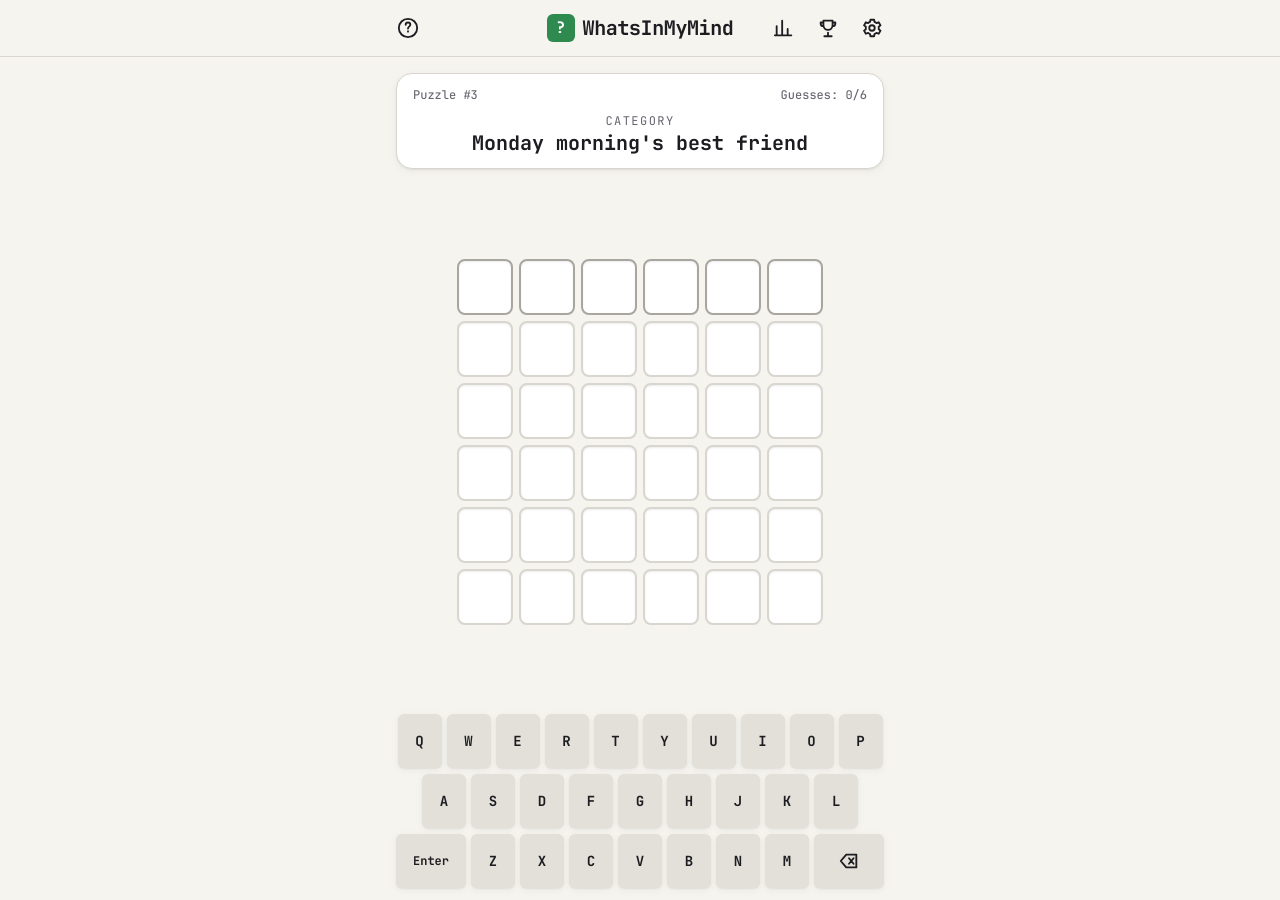
App › switches to the retro theme and unlocks Retro Soul
Click the button named "Settings".
click(872, 28)  # box [852,8,892,48]
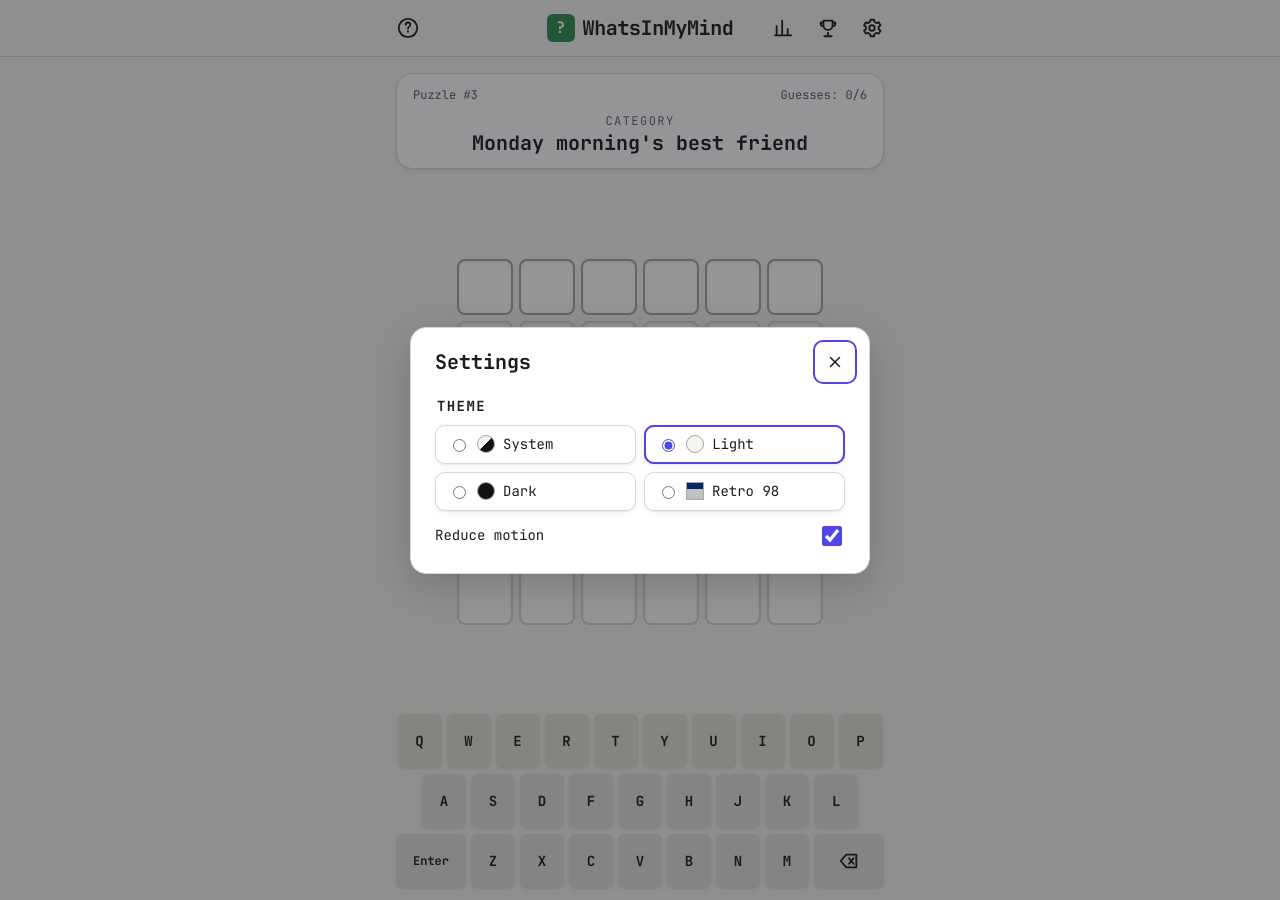
Click the radio button labelled "Retro 98".
click(668, 492)  # box [662,486,675,499]
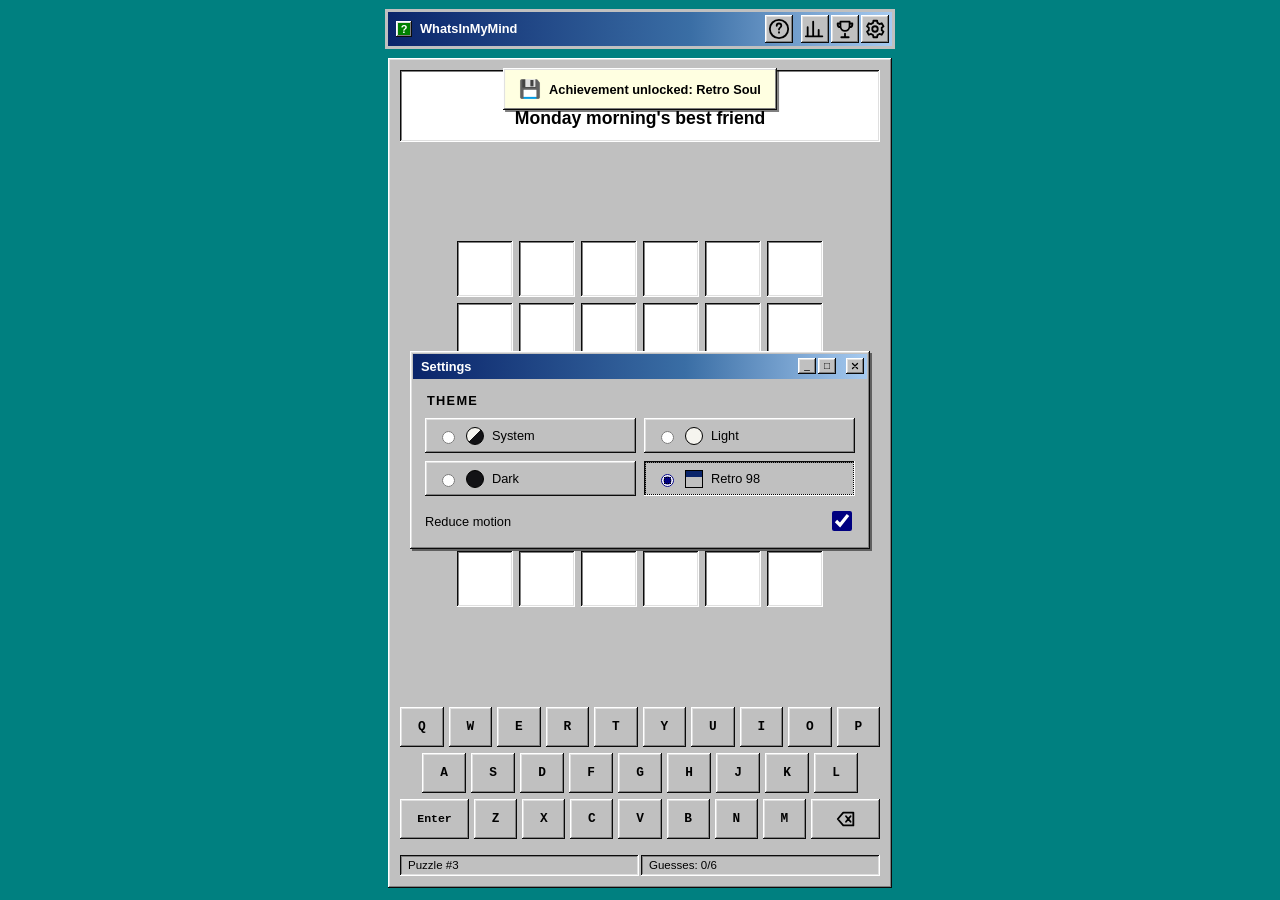
Result: the text "Achievement unlocked: Retro Soul" is shown at [549,82,761,97]
